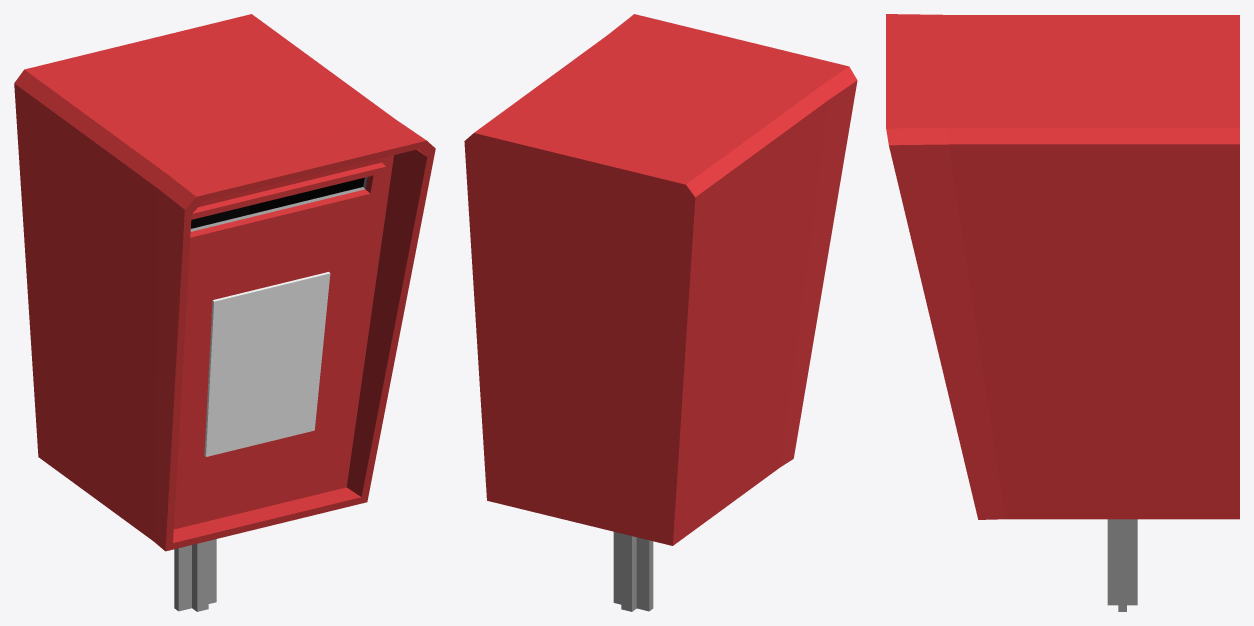
Rendered from postBox01.fbx.
The picture shows the model from 3 angles, left to right: view 1: azimuth 30°, elevation 25°; view 2: azimuth 150°, elevation 25°; view 3: azimuth 270°, elevation 25°; orthographic projection. The views are drawn at different scales.
Parts seen in each view (by area): view 1: RedPaint; view 2: RedPaint; view 3: RedPaint.
Part boxes in pixels (x1,y1,x2,y2): RedPaint: (14, 14, 435, 611); RedPaint: (464, 14, 857, 611); RedPaint: (886, 14, 1239, 611).
Bounding box in the file's own units: 20.15 × 40.01 × 24.15.
